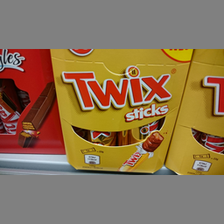chocolate: (50, 50, 193, 172), (1, 48, 65, 156)
